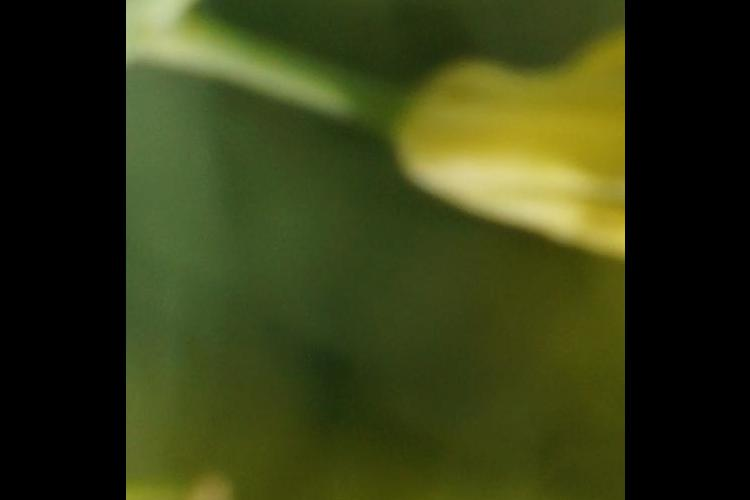yellow: (389, 50, 624, 268)
